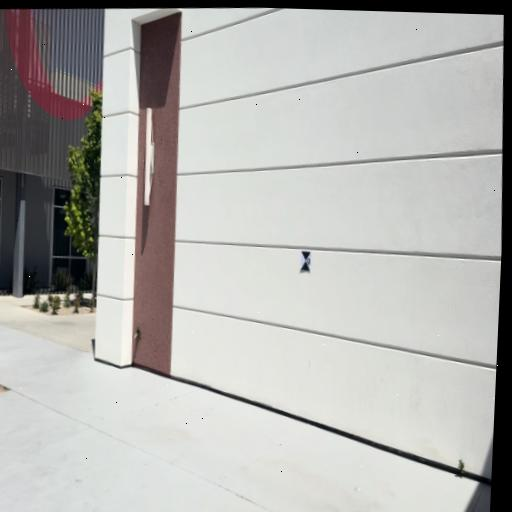target0: (300, 250, 311, 273)
